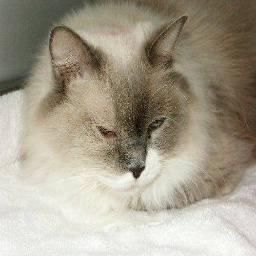cat: (19, 4, 256, 216)
